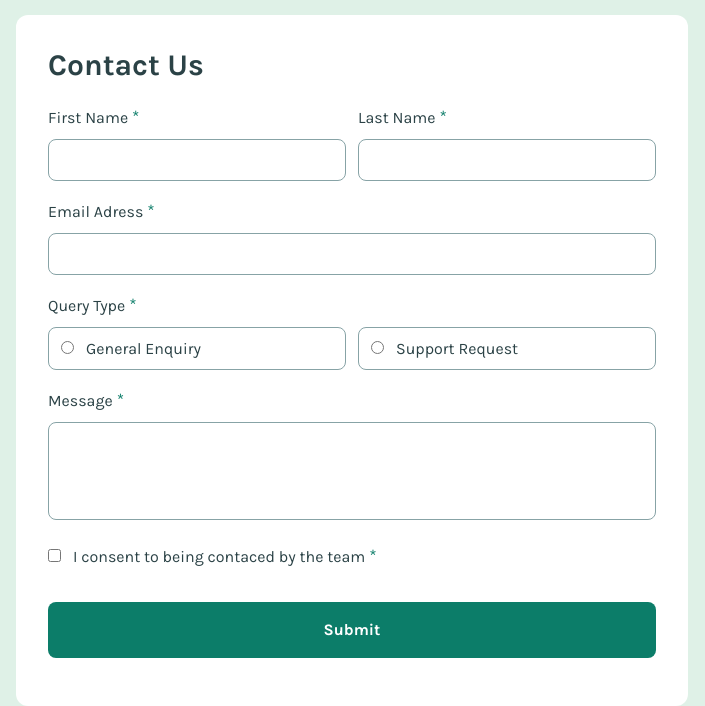
Test case: MyForm › should return invalid first name and last name with number and like @/&..
Type "Pari@123" into the field labelled "First Name*".
click(197, 160); type("Pari@123")  # box [48,138,346,180]
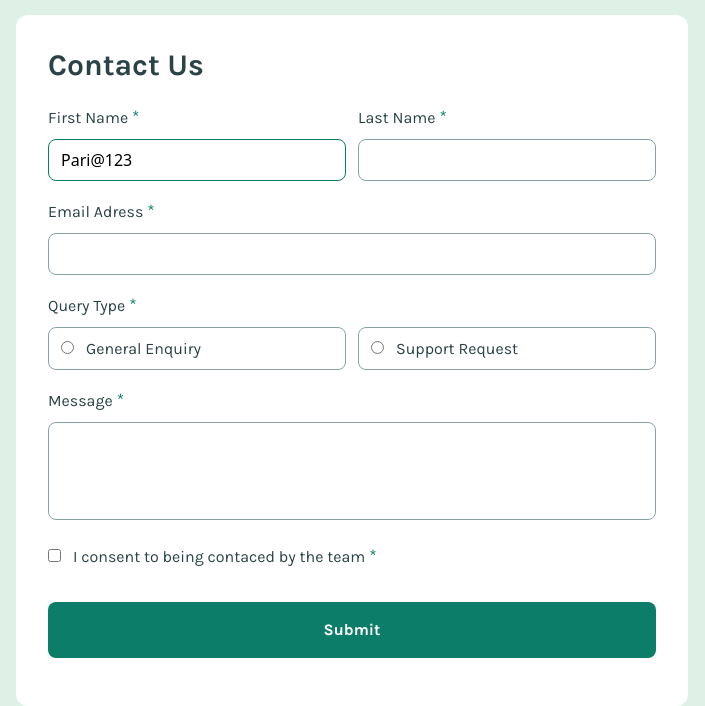
Type "Monta$$123" into the field labelled "Last Name*".
click(507, 160); type("Monta$$123")  # box [358,138,656,180]
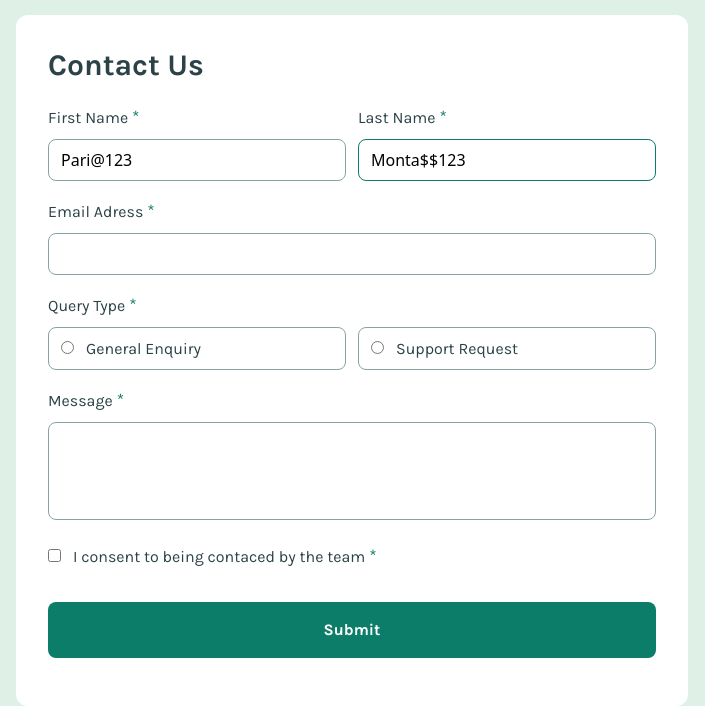
Click the button "Submit".
click(352, 630)  # box [48,602,656,658]
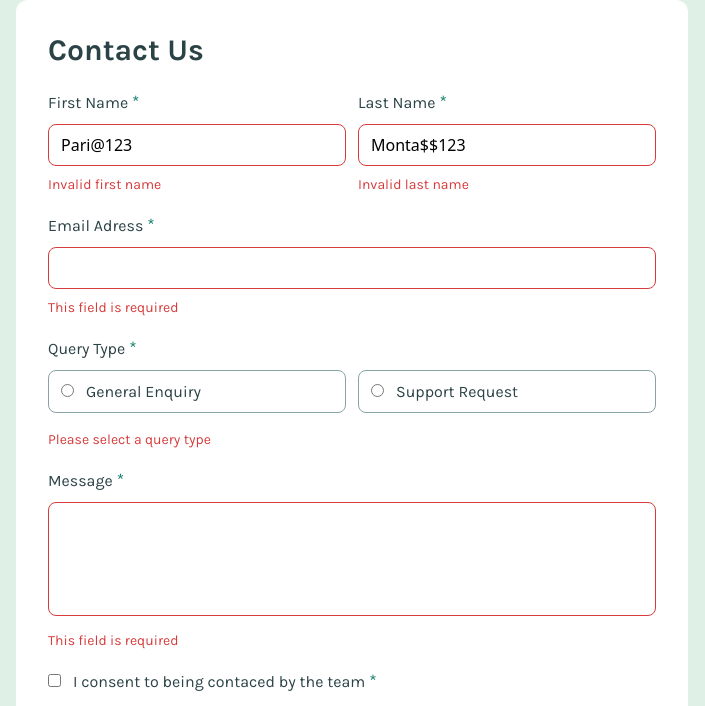
Check: the text "Invalid first name" is shown, box [48,176,161,193]
Check: the text "Invalid last name" is shown, box [358,176,469,193]
